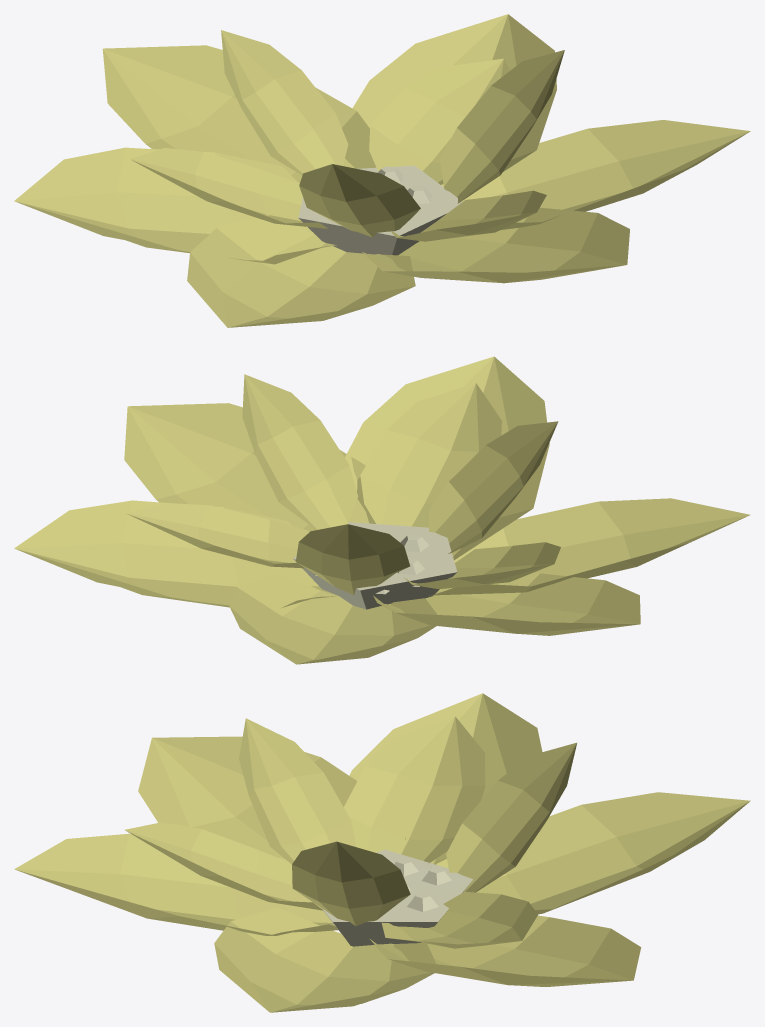
The picture shows the model from 3 angles, top to bottom: view 1: azimuth 30°, elevation 25°; view 2: azimuth 150°, elevation 25°; view 3: azimuth 270°, elevation 25°; orthographic projection. The views are drawn at different scales.
Visible parts, largest first — view 1: polySurface9137; view 2: polySurface9137; view 3: polySurface9137.
Boxes of the visible parts, box(x1,y1,x2,y2) form: polySurface9137: box(14, 14, 750, 327); polySurface9137: box(14, 356, 750, 664); polySurface9137: box(14, 693, 750, 1012).
Bounding box in the file's own units: 32.64 × 9.58 × 32.56.
